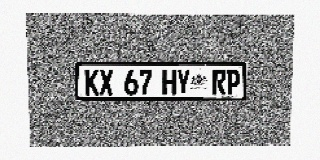6: (124, 69, 138, 95)
7: (139, 69, 152, 95)
H: (162, 69, 176, 95)
K: (85, 69, 99, 95)
P: (226, 69, 240, 95)
R: (212, 69, 226, 95)
X: (99, 69, 113, 95)
Y: (176, 69, 190, 95)
